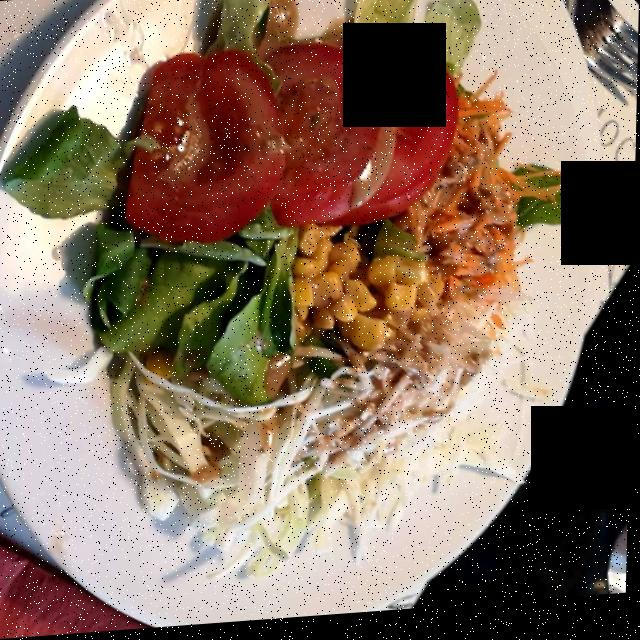mixed-salad-chopped-without-sauce: (45, 0, 562, 566)
